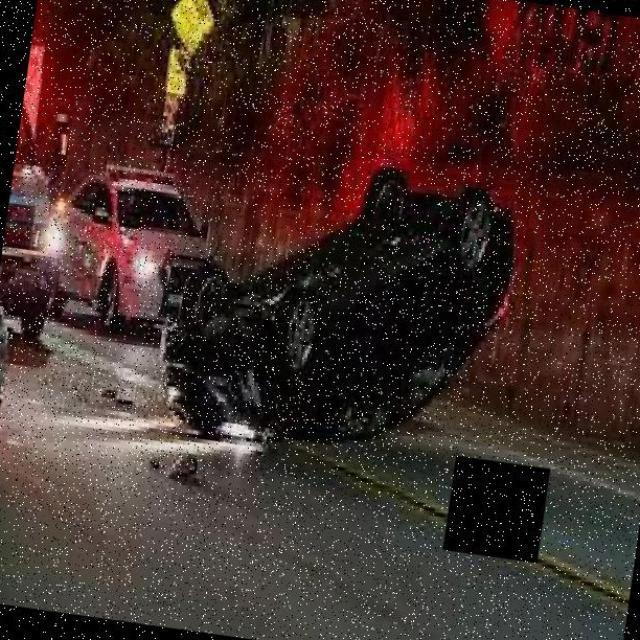accident: (150, 117, 534, 470)
